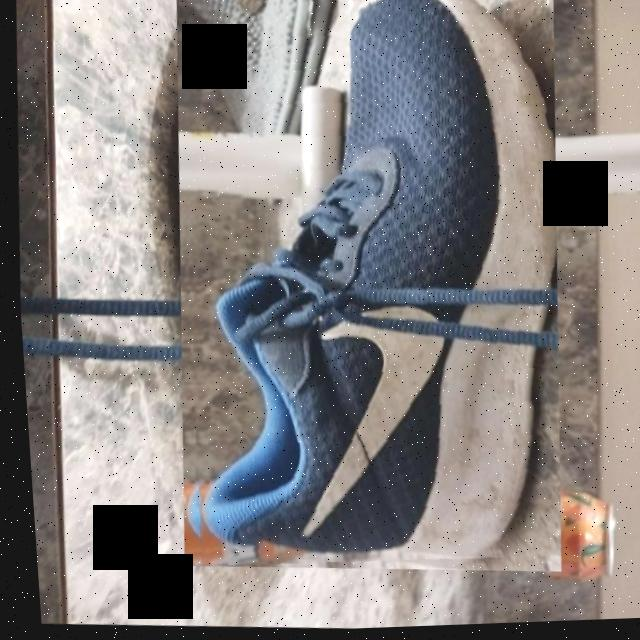shoe: (146, 0, 583, 587)
